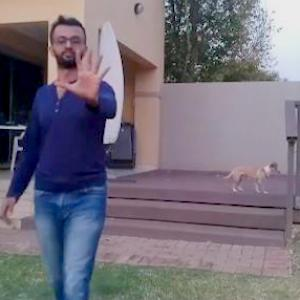follow_hand: (53, 45, 116, 106)
